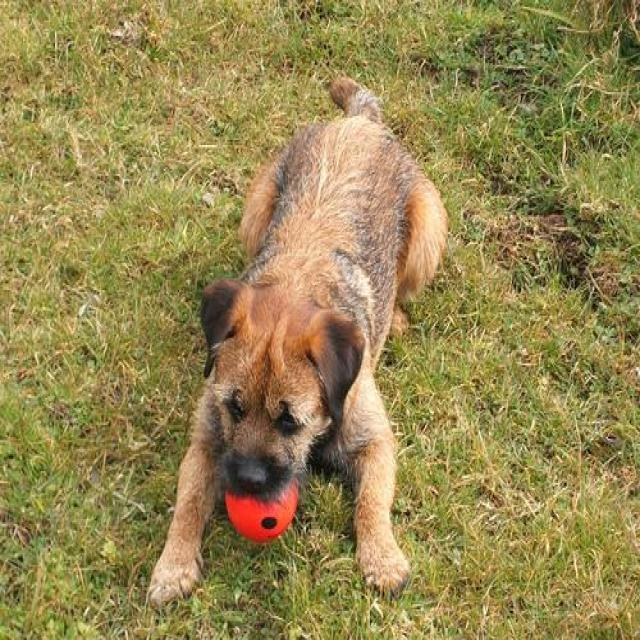dogs: (192, 63, 433, 607)
